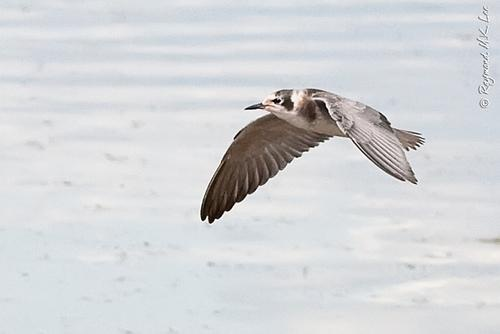bird: (197, 87, 427, 227)
